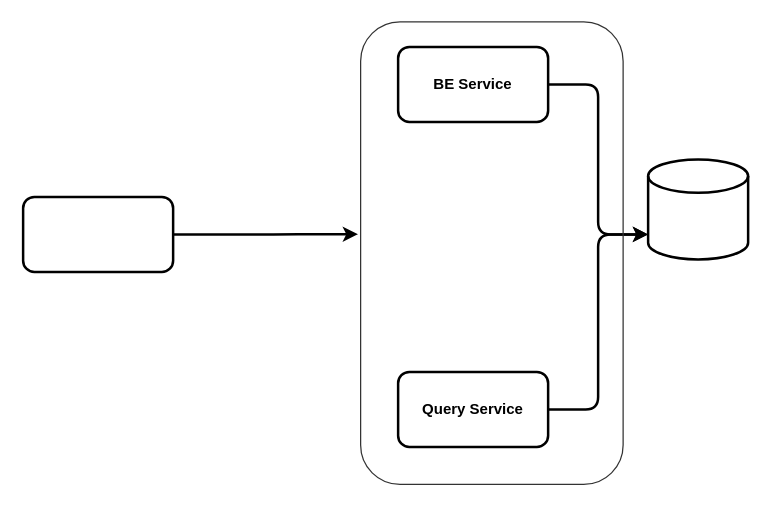
This 770x506 diagram has some shape labels left out. The shapes that lost their labels are listed below. From the top down, each one's centre as x and y in pixels, then its label:
At point 697,209: "Postgres".
At point 97,233: "Web".
